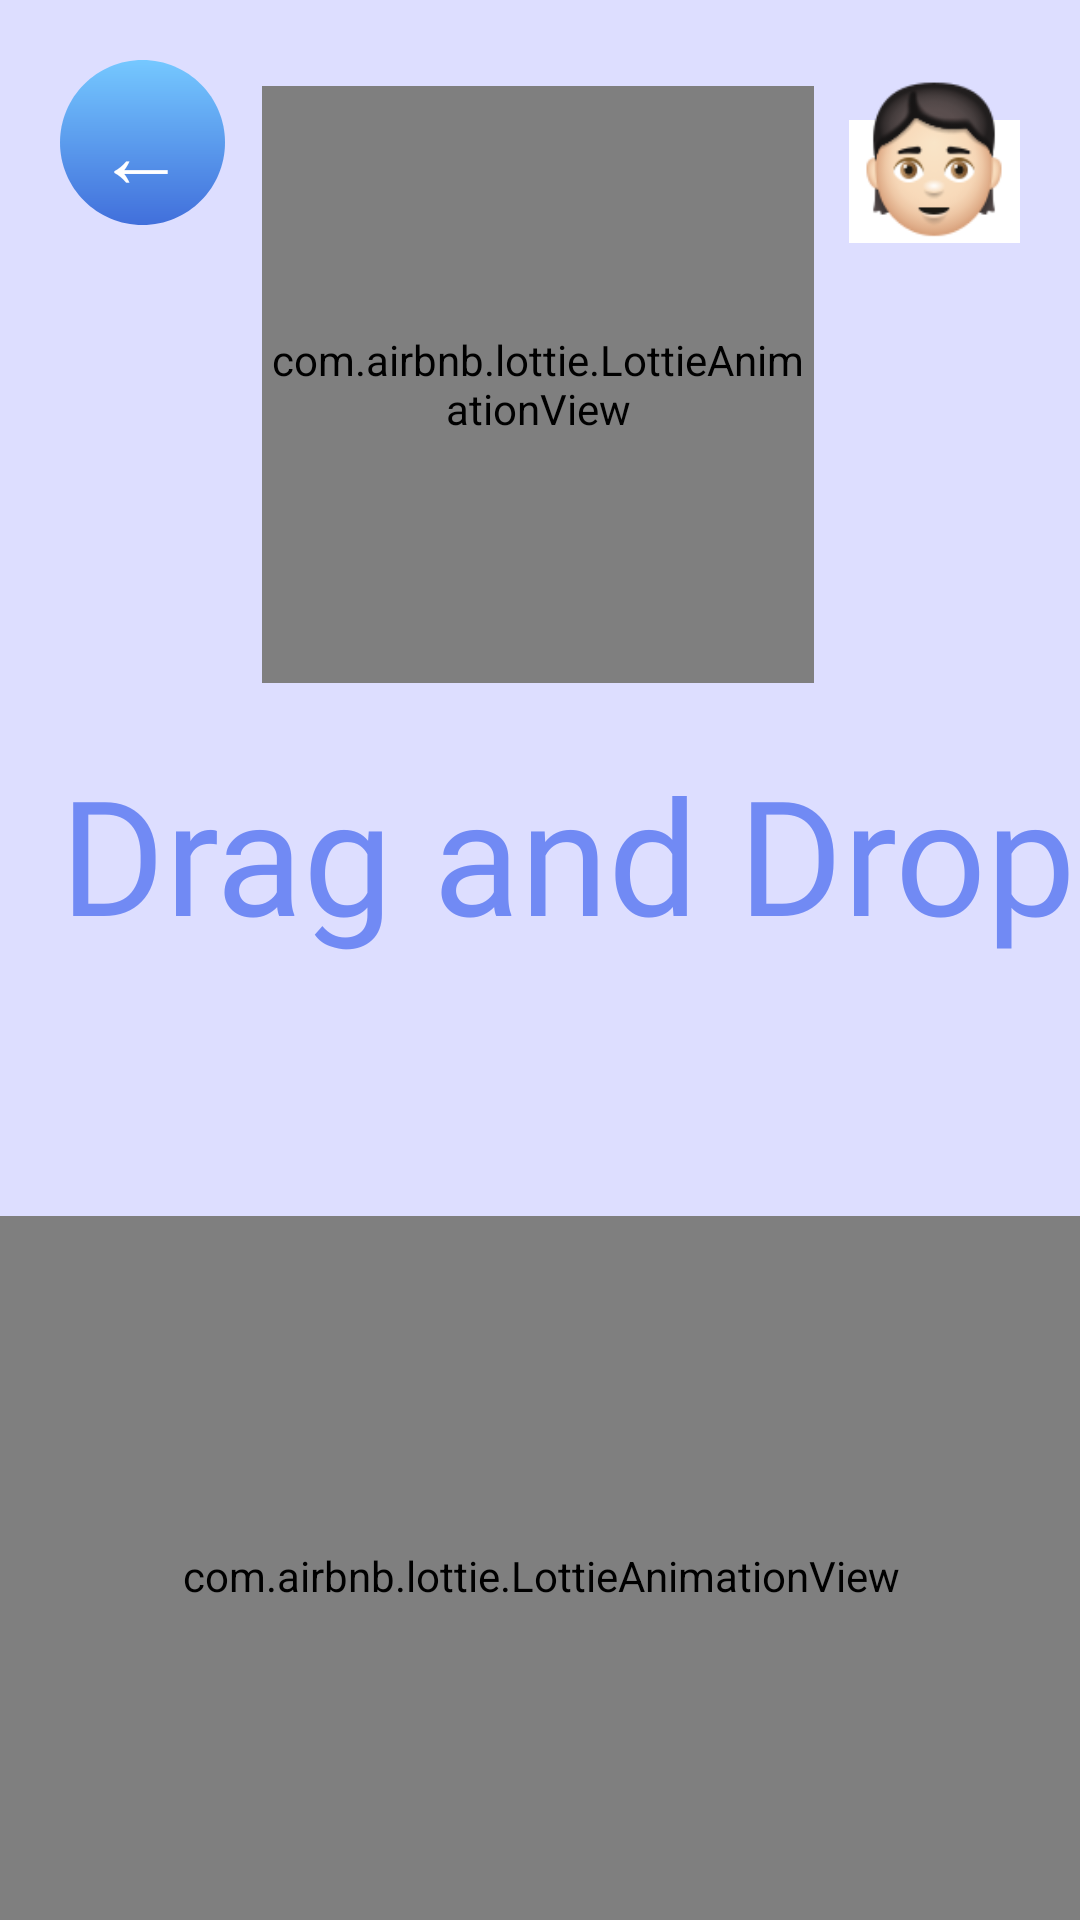

Screen size 1080 × 1920. Icon name, then its box in pixels as (x1, y1, x2, y2):
back: (60, 60, 225, 225)
son: (853, 82, 1015, 243)
